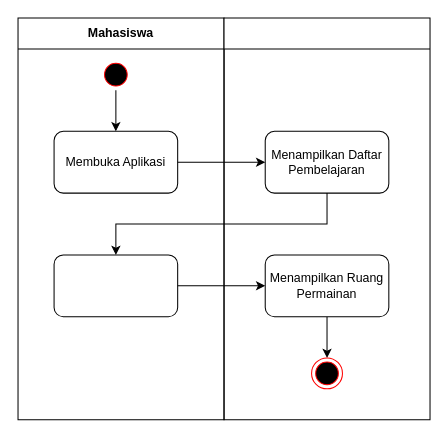
The diagram is 448 pixels wide and 438 high, and some of its shapes have lost their labels. Each missing label, with the box of its shape:
Memilih Materi: (53, 254, 178, 317)
Sistem: (223, 17, 430, 420)
